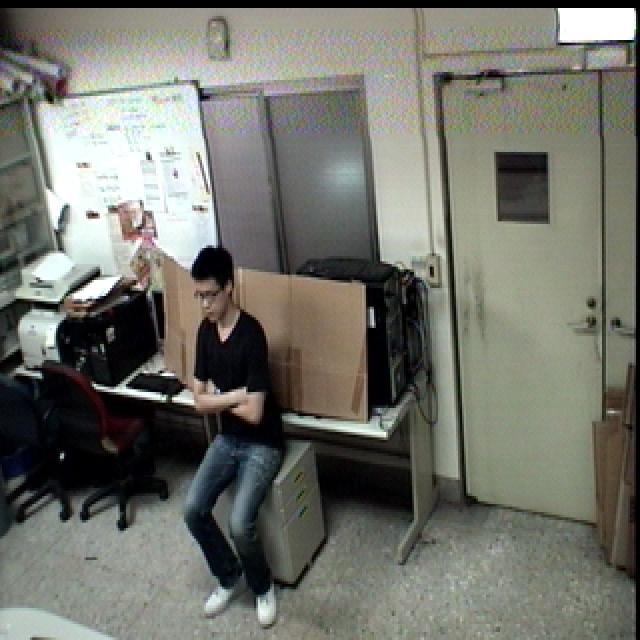sit: (178, 245, 291, 638)
